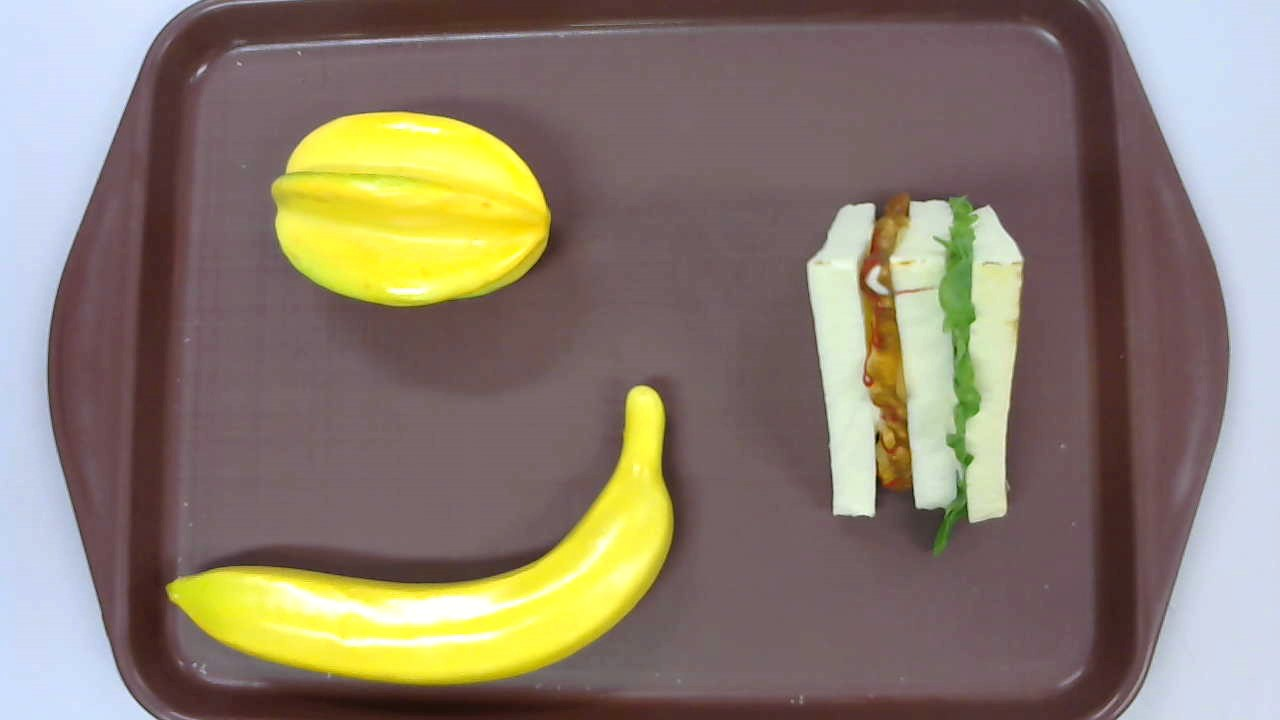banana: (164, 384, 676, 685)
sandwich: (806, 191, 1024, 558)
star fruit: (271, 110, 555, 311)
